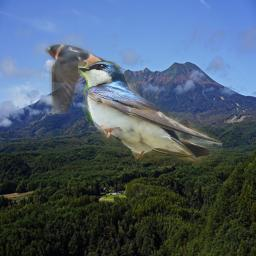Swallow: (78, 61, 223, 169), (45, 41, 122, 114)
